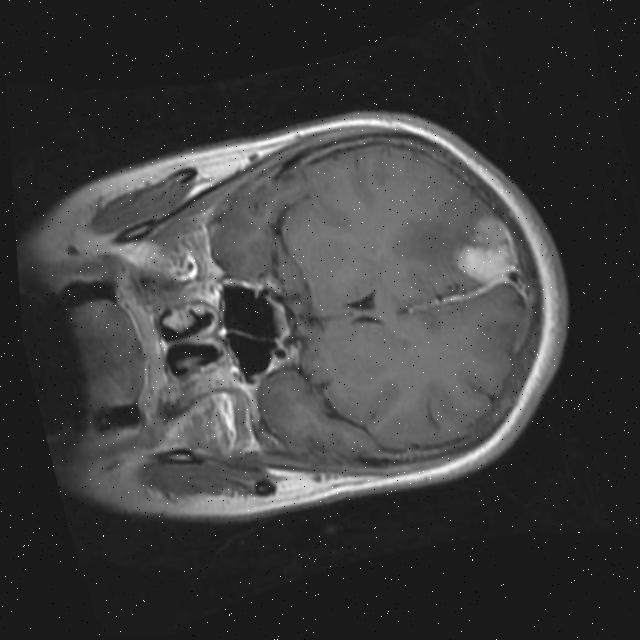Meningioma: (445, 210, 523, 291)
